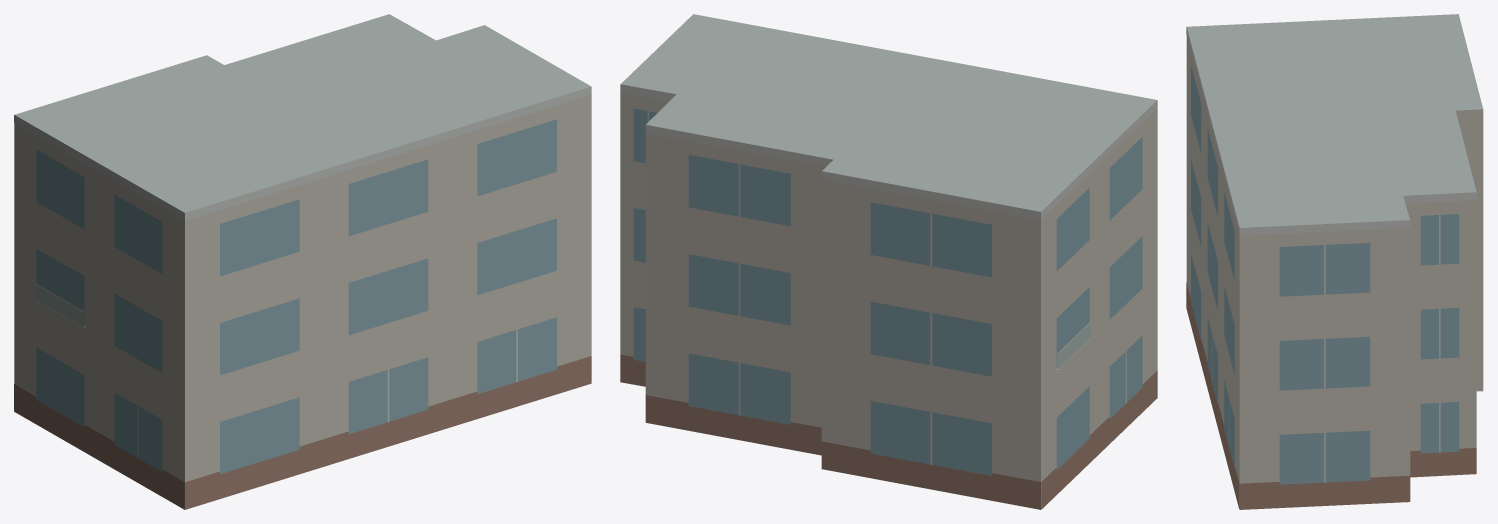
Rendered from survey-upis-32505700.glb.
3 views of the same model, side by side, from view 1: azimuth 30°, elevation 25°; view 2: azimuth 150°, elevation 25°; view 3: azimuth 270°, elevation 25° (orthographic). The views are drawn at different scales.
Visible parts, largest first — view 1: survey-upis-32505700.tmp; view 2: survey-upis-32505700.tmp; view 3: survey-upis-32505700.tmp.
Boxes of the visible parts, bbox=[...] form: survey-upis-32505700.tmp: bbox=[14, 14, 591, 509]; survey-upis-32505700.tmp: bbox=[620, 14, 1157, 509]; survey-upis-32505700.tmp: bbox=[1186, 14, 1483, 509].
Bounding box in the file's own units: 14.5 × 8.9 × 8.5.
